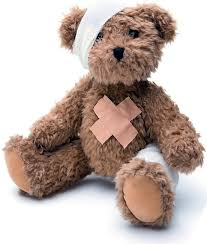teddy: (2, 4, 207, 235)
